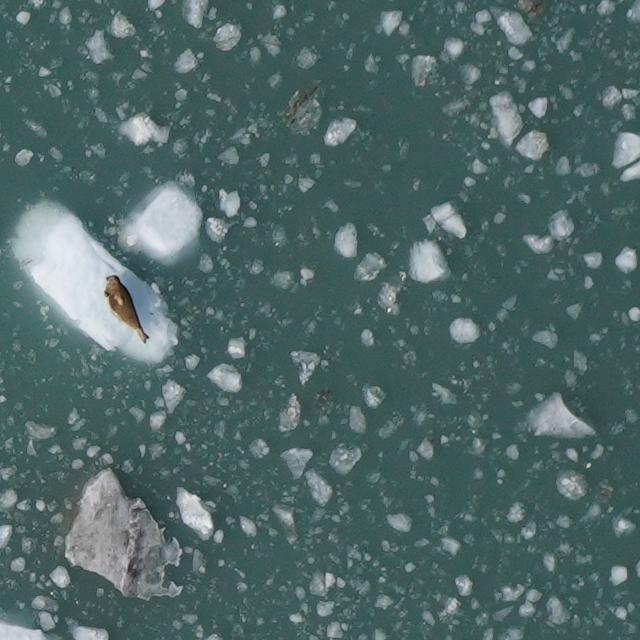seal: (99, 270, 154, 346)
